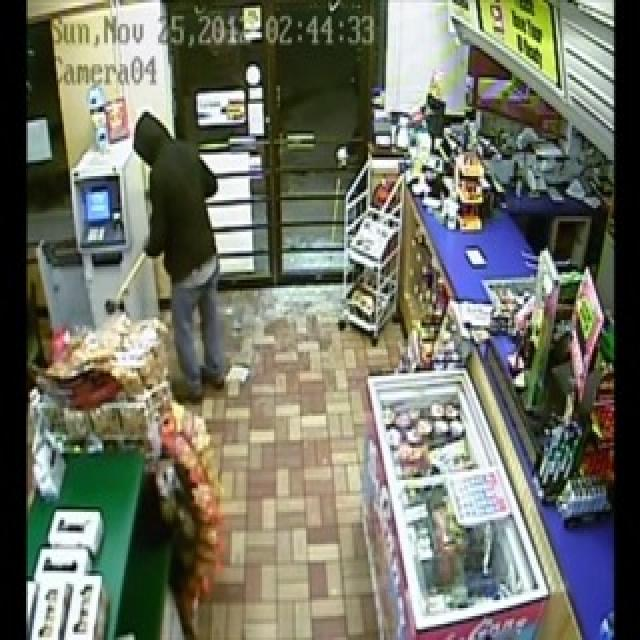thief: (86, 127, 245, 362), (338, 50, 368, 215)
